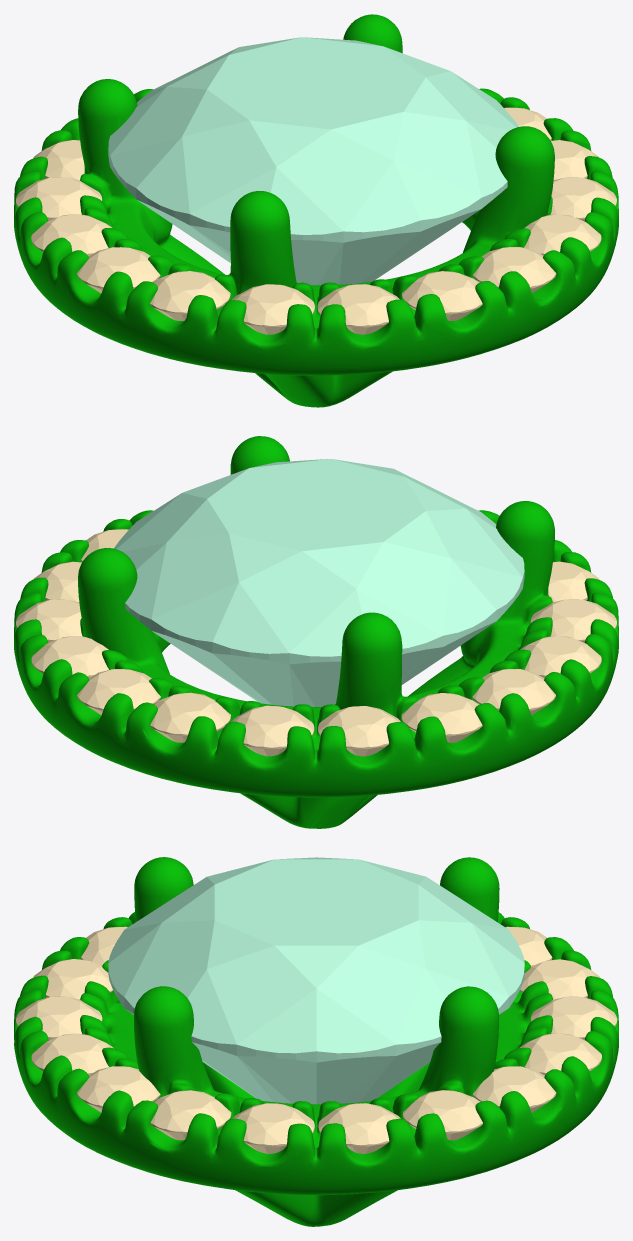
3 views of the same model, one above another, from view 1: azimuth 30°, elevation 25°; view 2: azimuth 150°, elevation 25°; view 3: azimuth 270°, elevation 25° (orthographic).
Parts seen in each view (by area): view 1: Metal01, CS_Diamond, Diamond_Round013, Diamond_Round014, Diamond_Round015, Diamond_Round012, Diamond_Round016, Diamond_Round011, Diamond_Round017, Diamond_Round, Diamond_Round010, Diamond_Round009 (+3 smaller); view 2: Metal01, CS_Diamond, Diamond_Round002, Diamond_Round003, Diamond_Round001, Diamond_Round, Diamond_Round017, Diamond_Round004, Diamond_Round016, Diamond_Round005, Diamond_Round015, Diamond_Round006 (+3 smaller); view 3: Metal01, CS_Diamond, Diamond_Round008, Diamond_Round007, Diamond_Round006, Diamond_Round009, Diamond_Round005, Diamond_Round010, Diamond_Round004, Diamond_Round012, Diamond_Round003, Diamond_Round011 (+4 smaller).
Boxes of the visible parts, box(x1,y1,x2,y2) form: Metal01: box(14, 14, 618, 407); CS_Diamond: box(108, 37, 518, 285); Diamond_Round013: box(317, 284, 399, 334); Diamond_Round014: box(232, 284, 314, 334); Diamond_Round015: box(150, 271, 230, 320); Diamond_Round012: box(402, 271, 482, 320); Diamond_Round016: box(77, 247, 160, 293); Diamond_Round011: box(473, 247, 556, 293); Diamond_Round017: box(31, 214, 112, 256); Diamond_Round: box(16, 177, 102, 220); Diamond_Round010: box(524, 214, 601, 255); Diamond_Round009: box(550, 177, 616, 221); Metal01: box(14, 436, 618, 828); CS_Diamond: box(114, 459, 524, 706); Diamond_Round002: box(231, 705, 314, 756); Diamond_Round003: box(150, 692, 230, 742); Diamond_Round001: box(318, 706, 400, 756); Diamond_Round: box(401, 693, 482, 742); Diamond_Round017: box(472, 669, 555, 715); Diamond_Round004: box(77, 669, 160, 715); Diamond_Round016: box(520, 635, 601, 678); Diamond_Round005: box(31, 636, 108, 677); Diamond_Round015: box(530, 599, 616, 642); Diamond_Round006: box(16, 599, 82, 642); Metal01: box(14, 857, 618, 1226); CS_Diamond: box(108, 857, 524, 1104); Diamond_Round008: box(232, 1103, 314, 1153); Diamond_Round007: box(318, 1103, 400, 1153); Diamond_Round006: box(402, 1090, 482, 1140); Diamond_Round009: box(150, 1090, 231, 1140); Diamond_Round005: box(472, 1066, 556, 1112); Diamond_Round010: box(77, 1066, 160, 1112); Diamond_Round004: box(519, 1033, 601, 1075); Diamond_Round012: box(16, 996, 102, 1040); Diamond_Round003: box(531, 996, 617, 1040); Diamond_Round011: box(31, 1033, 113, 1075).
Size of the model in its own units: 11.95 by 6.83 by 11.91.
